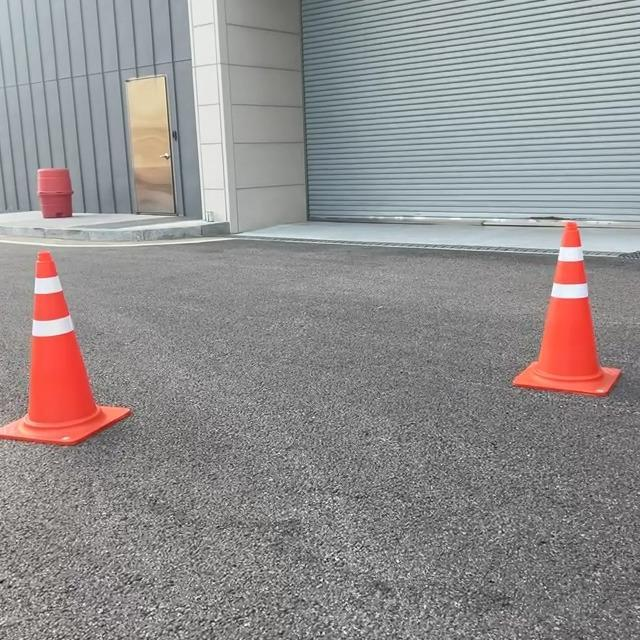fallen_object: (473, 207, 640, 440), (0, 239, 133, 416)
